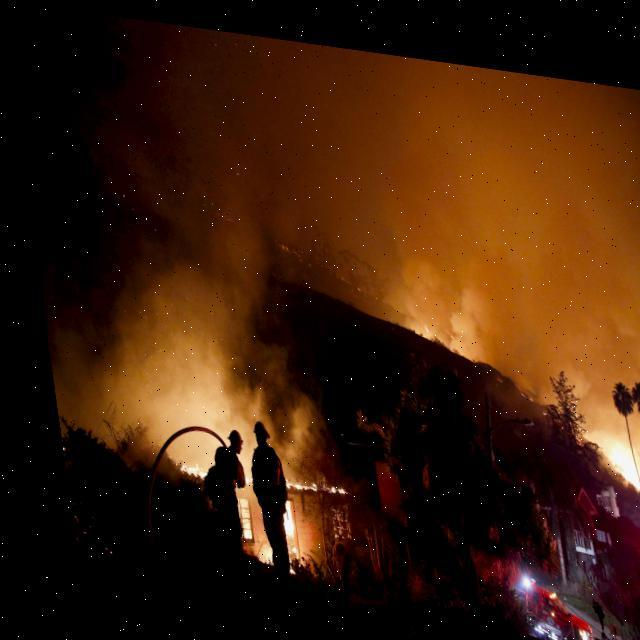Fire: (214, 440, 300, 570), (583, 409, 639, 485)
